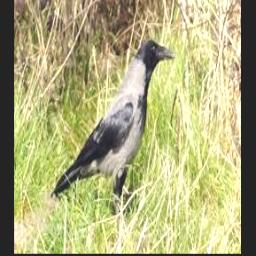Crow: (50, 40, 175, 214)
